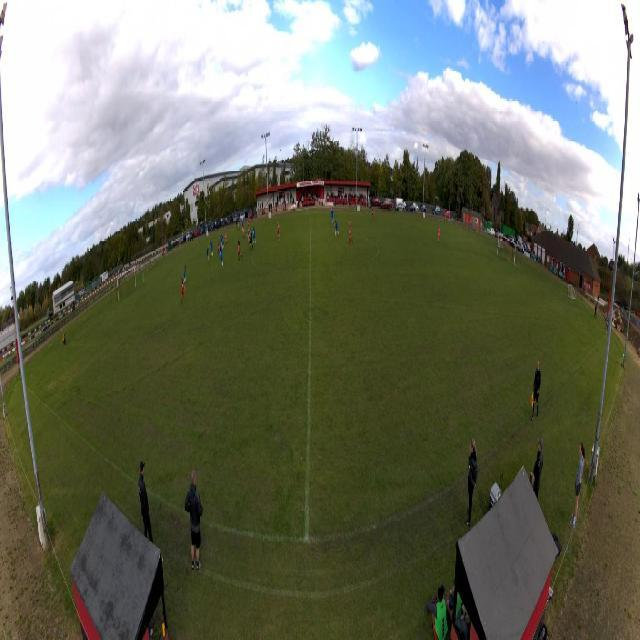ball: (216, 222, 217, 226)
player: (237, 240, 243, 262), (348, 219, 353, 245), (334, 217, 340, 237), (219, 248, 224, 270), (181, 278, 185, 304), (249, 229, 253, 251), (183, 263, 187, 284), (277, 220, 281, 241), (142, 269, 146, 288), (210, 239, 214, 258), (252, 226, 256, 245), (331, 206, 335, 224), (224, 230, 228, 247), (371, 205, 375, 221), (207, 243, 210, 262), (438, 225, 441, 244), (222, 233, 225, 251), (220, 233, 223, 249), (242, 224, 245, 240), (247, 228, 250, 244), (218, 240, 220, 256), (248, 216, 250, 227), (242, 219, 244, 225)
